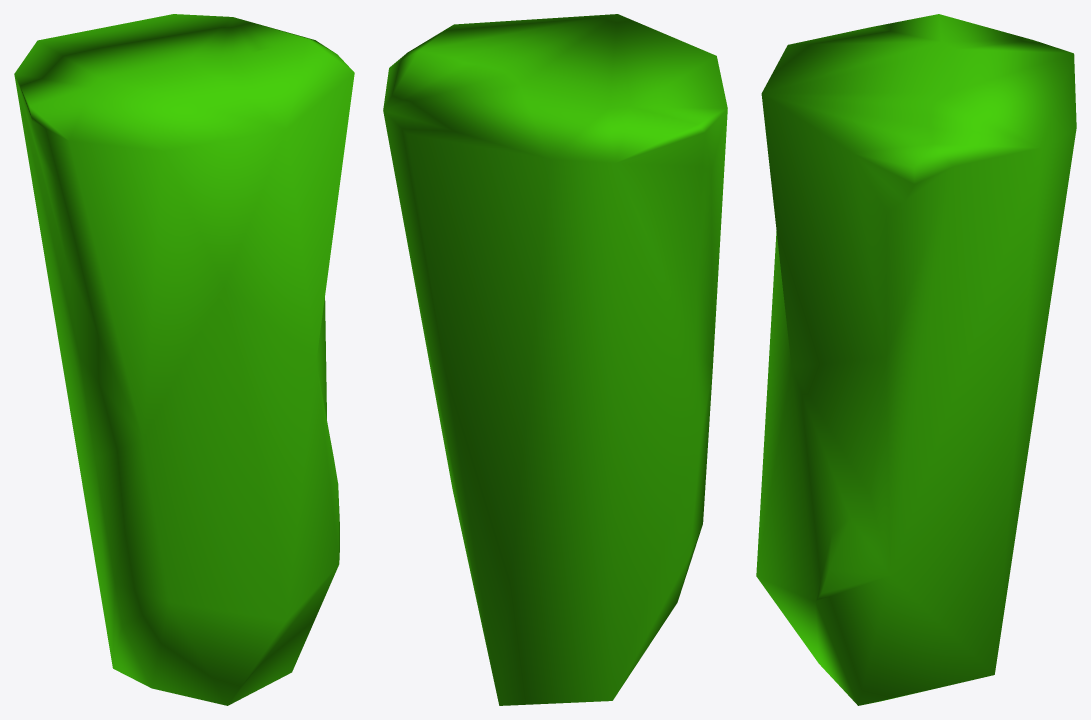
File: Midorin_leg_r.obj
3 renders of one model, left to right at view 1: azimuth 30°, elevation 25°; view 2: azimuth 150°, elevation 25°; view 3: azimuth 270°, elevation 25°, orthographic. The views are drawn at different scales.
Visible parts, largest first — view 1: GREEN_LEG_R; view 2: GREEN_LEG_R; view 3: GREEN_LEG_R.
Boxes of the visible parts, box(x1,y1,x2,y2) form: GREEN_LEG_R: box(14, 14, 354, 705); GREEN_LEG_R: box(383, 14, 727, 705); GREEN_LEG_R: box(756, 14, 1076, 705).
Bounding box in the file's own units: 0.5657 × 1.09 × 0.5322.
1 material, 1 textured.
